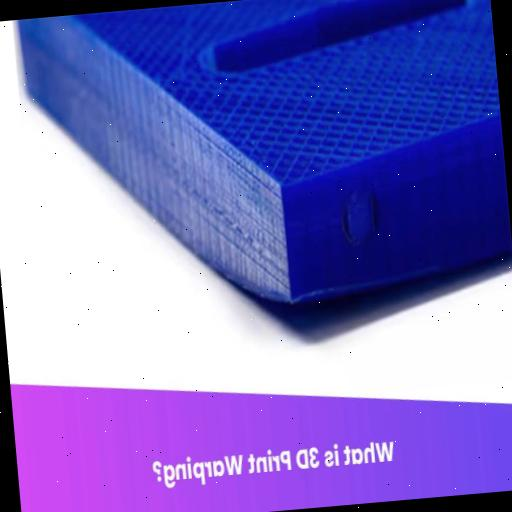cracks: (208, 266, 474, 339)
